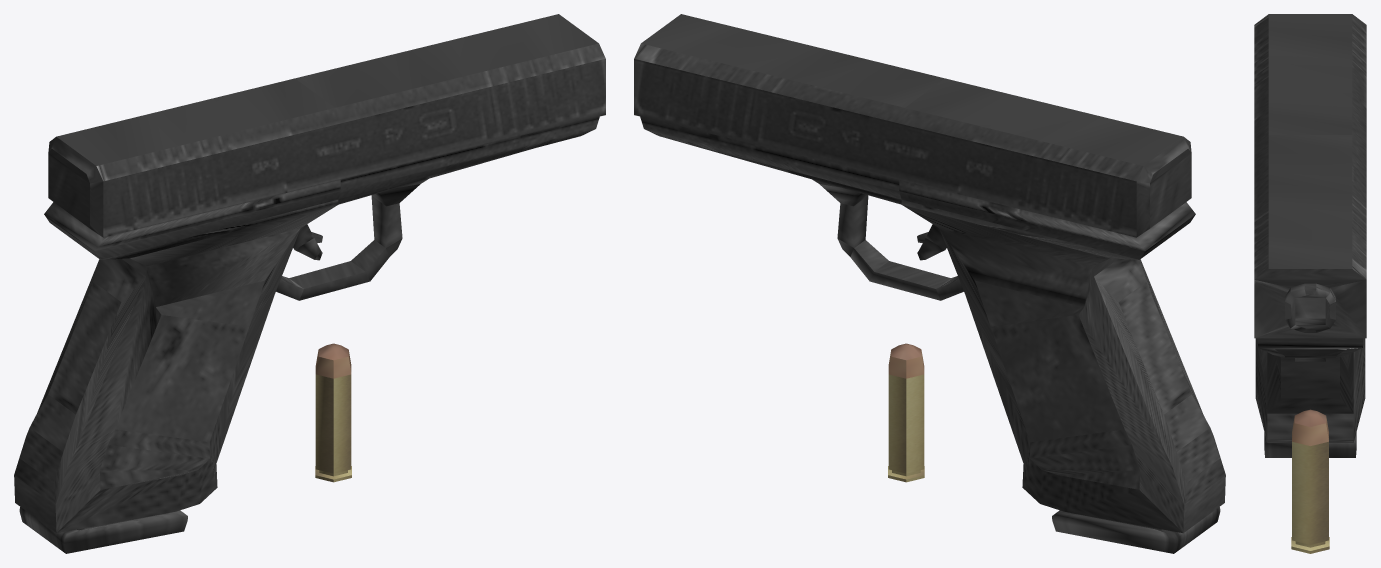
3 views of the same model, side by side, from view 1: azimuth 30°, elevation 25°; view 2: azimuth 150°, elevation 25°; view 3: azimuth 270°, elevation 25° (orthographic). The views are drawn at different scales.
Visible parts, largest first — view 1: 3DSMeshMatrix (×2), PistolPS1_; view 2: 3DSMeshMatrix (×2), PistolPS1_; view 3: 3DSMeshMatrix (×2), PistolPS1_.
Boxes of the visible parts, <box> form: 3DSMeshMatrix (×2): <box>14,14,605,553</box>; PistolPS1_: <box>315,343,351,482</box>; 3DSMeshMatrix (×2): <box>634,14,1225,553</box>; PistolPS1_: <box>888,343,924,482</box>; 3DSMeshMatrix (×2): <box>1254,14,1366,457</box>; PistolPS1_: <box>1291,409,1329,553</box>.
Size of the model in its own units: 2.34 by 1.56 by 0.3941.
3 materials, 3 textured.
